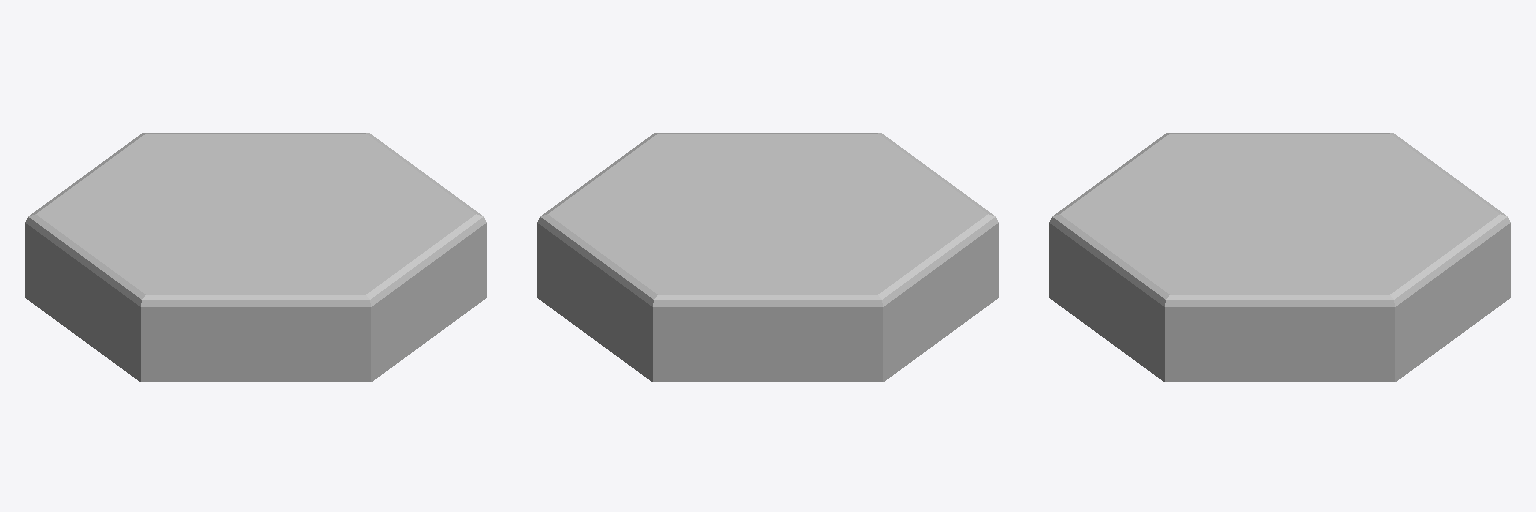
Rendered from SM_sol_carriere.obj.
3 views of the same model, side by side, from view 1: azimuth 30°, elevation 25°; view 2: azimuth 150°, elevation 25°; view 3: azimuth 270°, elevation 25° (orthographic).
Visible parts, largest first — view 1: Cylinder; view 2: Cylinder; view 3: Cylinder.
Part boxes in pixels (x1,y1,x2,y2): Cylinder: (25,133,486,381); Cylinder: (537,133,998,381); Cylinder: (1049,133,1510,381).
Bounding box in the file's own units: 8.66 × 2 × 10.